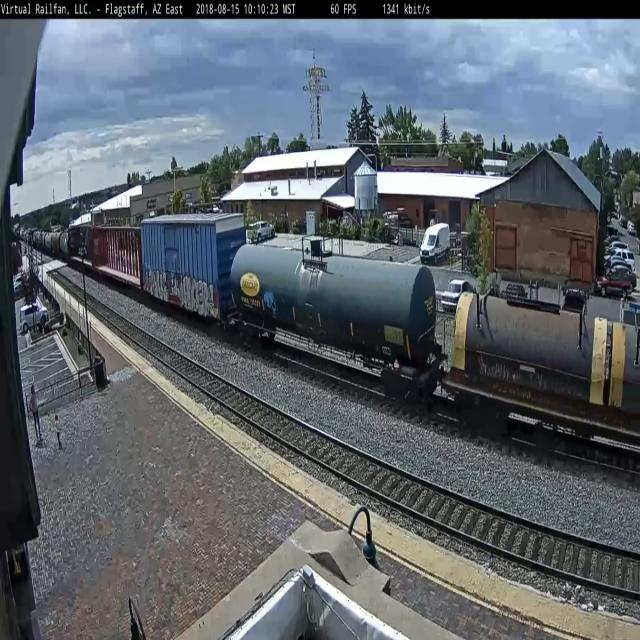boxcar: (135, 202, 249, 330)
tank: (225, 230, 444, 416), (442, 279, 609, 453)
